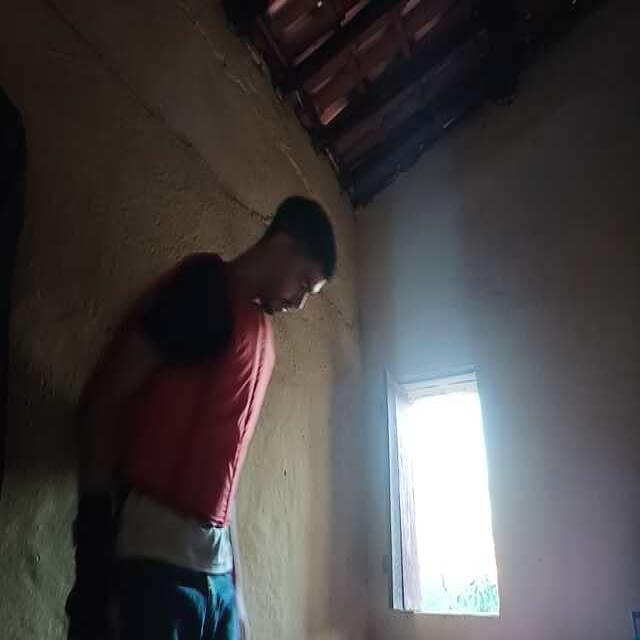colete: (74, 247, 278, 545)
pessoa: (78, 201, 348, 640)
